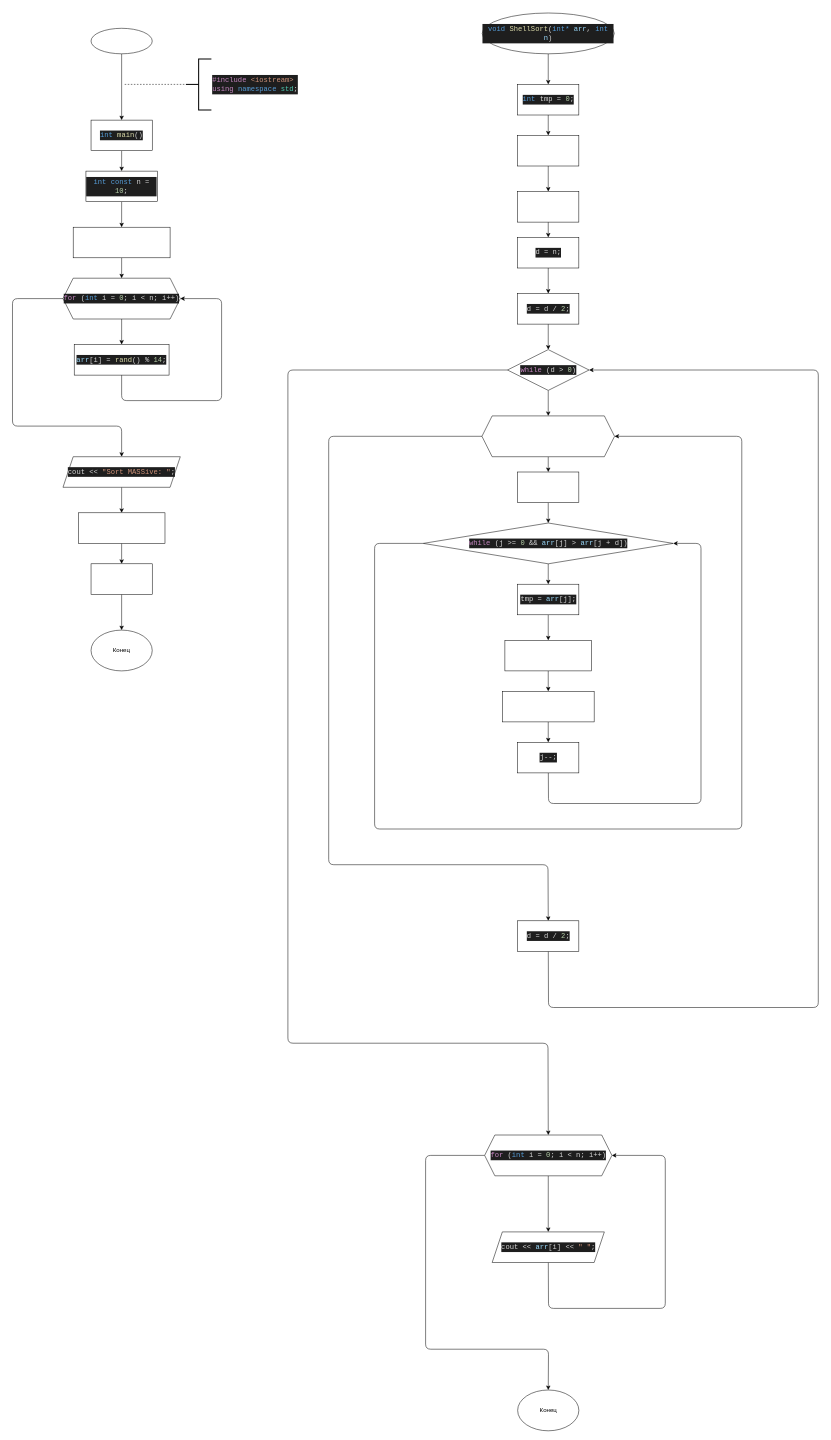
Image size: 831x1440. Some labels were removed from this diagram. The centre of each missing label's shape, as x and y in pixels:
arr [j + d] = tmp;: point (548, 706)
arr [j] = arr [j + d];: point (548, 655)
delete[] arr;: point (121, 578)
for ( int i = 0 ; i < n - d; i++): point (548, 436)
int * arr = new int [n];: point (121, 242)
int d;: point (548, 150)
int j;: point (548, 206)
j = i;: point (548, 487)
ShellSort (arr, n);: point (121, 527)
Начало: point (121, 41)
